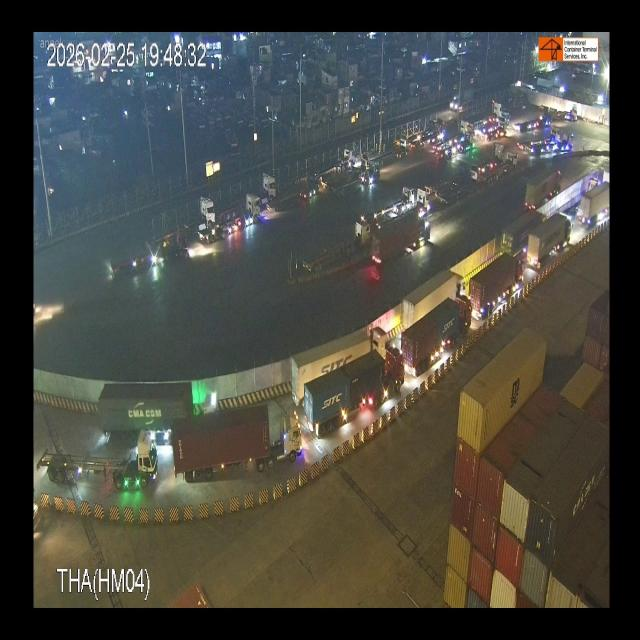truck: (178, 415, 304, 473), (100, 380, 220, 434), (306, 361, 406, 425), (278, 329, 389, 386), (42, 438, 158, 491), (468, 241, 528, 312), (411, 302, 474, 367), (403, 259, 465, 321), (529, 215, 581, 265), (309, 224, 369, 267), (164, 197, 214, 239), (522, 170, 566, 208), (217, 202, 263, 237), (372, 189, 418, 223), (580, 182, 612, 230), (505, 202, 535, 247), (244, 172, 276, 206)
